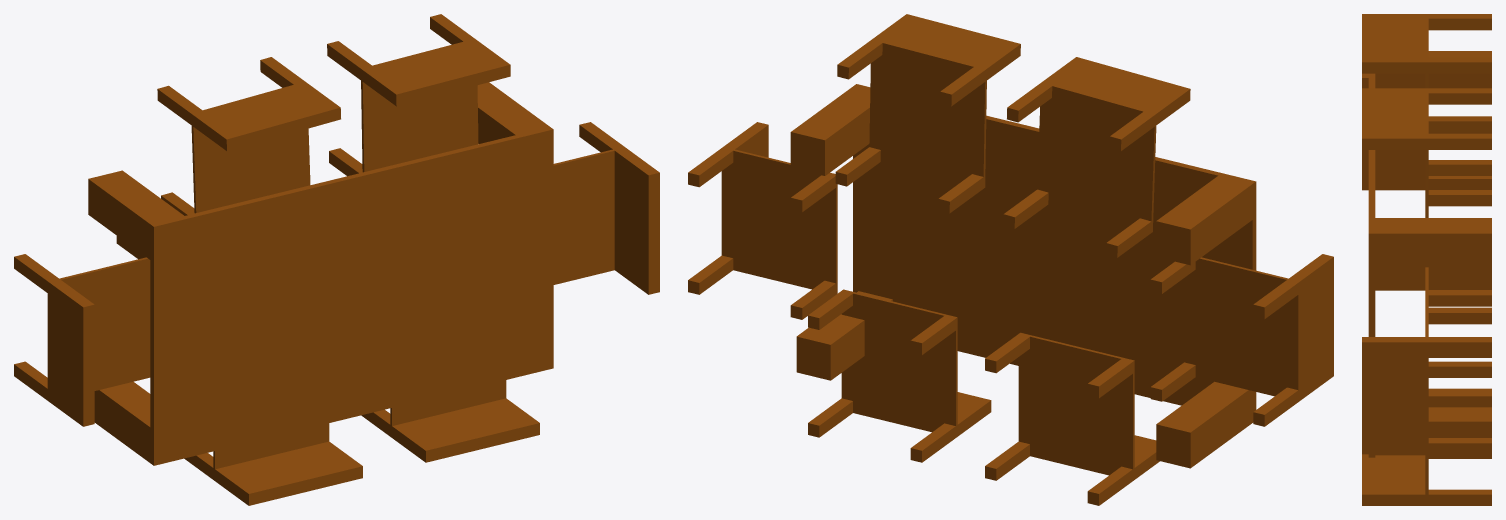
Rendered from tinker.obj.
3 renders of one model, left to right at view 1: azimuth 30°, elevation 25°; view 2: azimuth 150°, elevation 25°; view 3: azimuth 270°, elevation 25°, orthographic. The views are drawn at different scales.
Parts seen in each view (by area): view 1: obj_0; view 2: obj_0; view 3: obj_0.
Part boxes in pixels (x1,y1,x2,y2): obj_0: [14, 14, 659, 505]; obj_0: [688, 14, 1333, 505]; obj_0: [1362, 14, 1491, 505].
Bounding box in the file's own units: 101 × 63.17 × 21.
